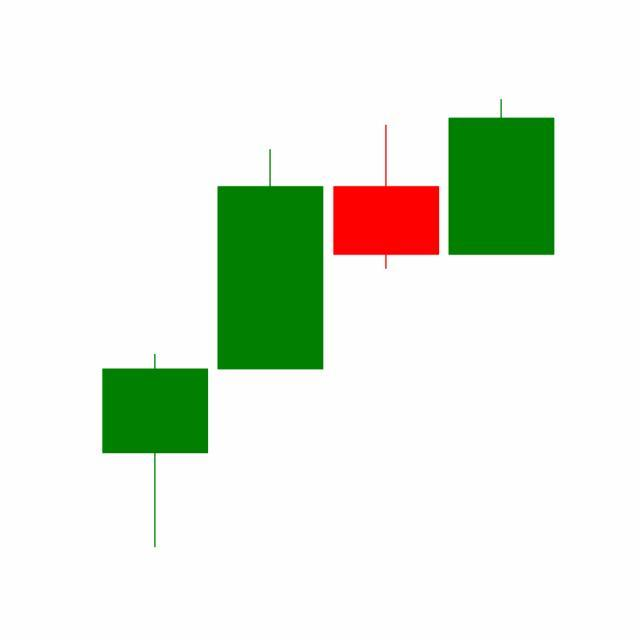Marubozu: (444, 98, 560, 257)
